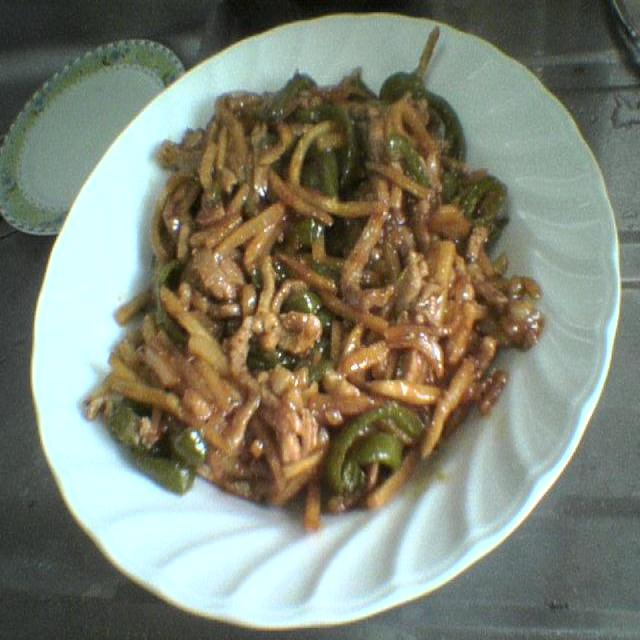牛肉菜式: (33, 0, 625, 640)
